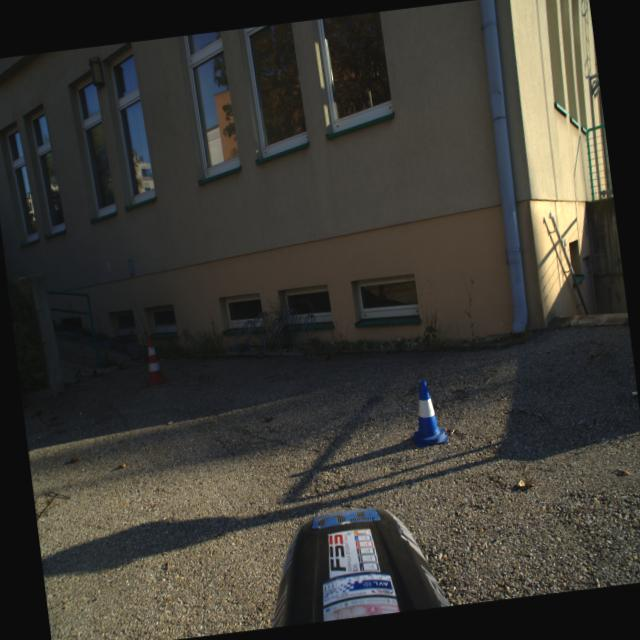blue_cone: (407, 377, 448, 447)
large_orange_cone: (140, 334, 168, 385)
